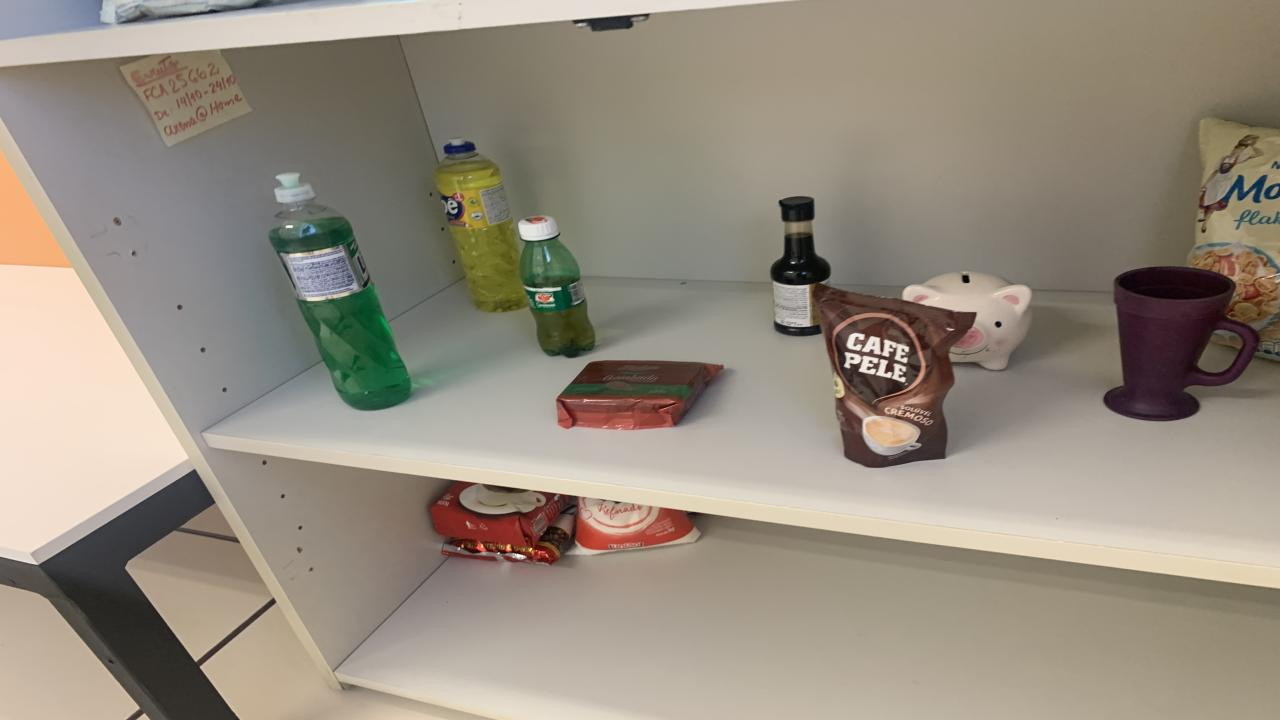Coffee-Pantry_Items: (812, 285, 975, 467)
Detergent-Cleanup_Items: (270, 172, 410, 411), (435, 139, 528, 311)
English_Sauce-Pantry_Items: (770, 197, 830, 336)
Flakes-Snacks: (1188, 118, 1280, 360), (100, 0, 260, 24), (1212, 332, 1240, 347)
Guarana-Drinks: (518, 216, 595, 358)
Guava-Snacks: (558, 360, 722, 429)
Pig_Safe-Miscellaneous: (902, 272, 1032, 369)
